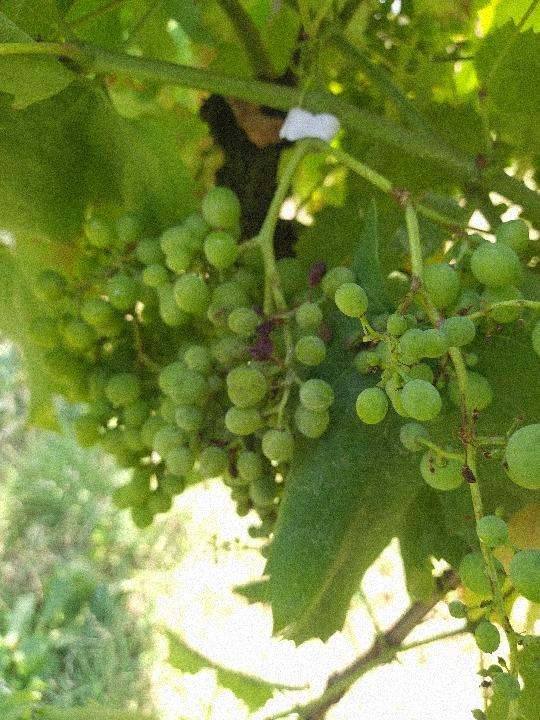grape: (143, 187, 357, 512)
